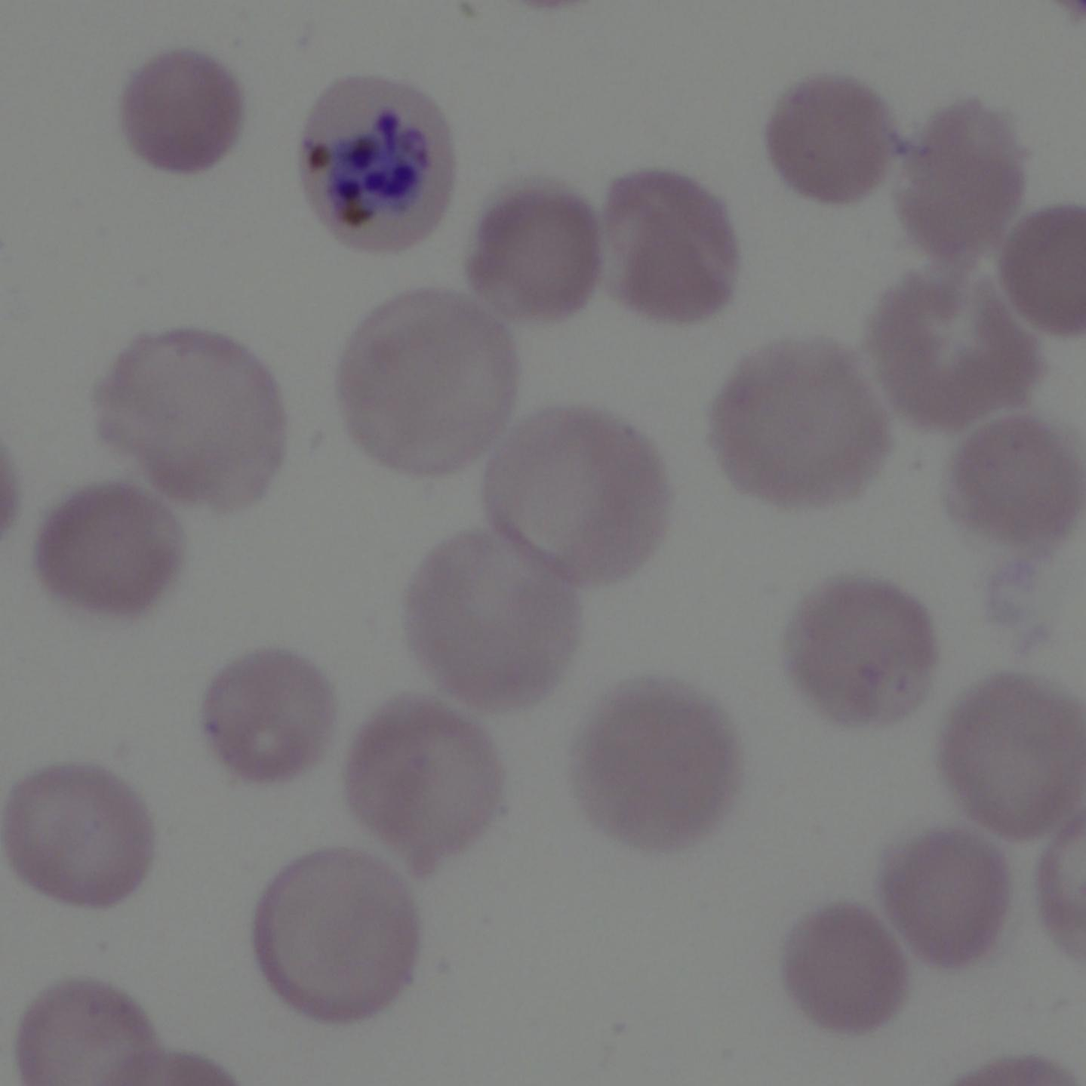Infected: (297, 76, 456, 256)
Uninfected: (488, 398, 674, 593), (337, 278, 513, 481), (93, 330, 283, 518), (880, 250, 1045, 449), (408, 534, 584, 711), (704, 340, 886, 504), (251, 851, 424, 1021), (571, 675, 736, 850), (352, 695, 500, 882), (946, 665, 1086, 843), (777, 577, 937, 728), (589, 167, 740, 323), (883, 813, 1015, 974), (0, 771, 151, 909), (201, 642, 334, 790), (896, 104, 1020, 261), (953, 411, 1086, 556), (33, 486, 183, 612), (782, 904, 912, 1045), (463, 193, 602, 316), (126, 46, 247, 169), (777, 71, 891, 194), (994, 212, 1086, 338)
